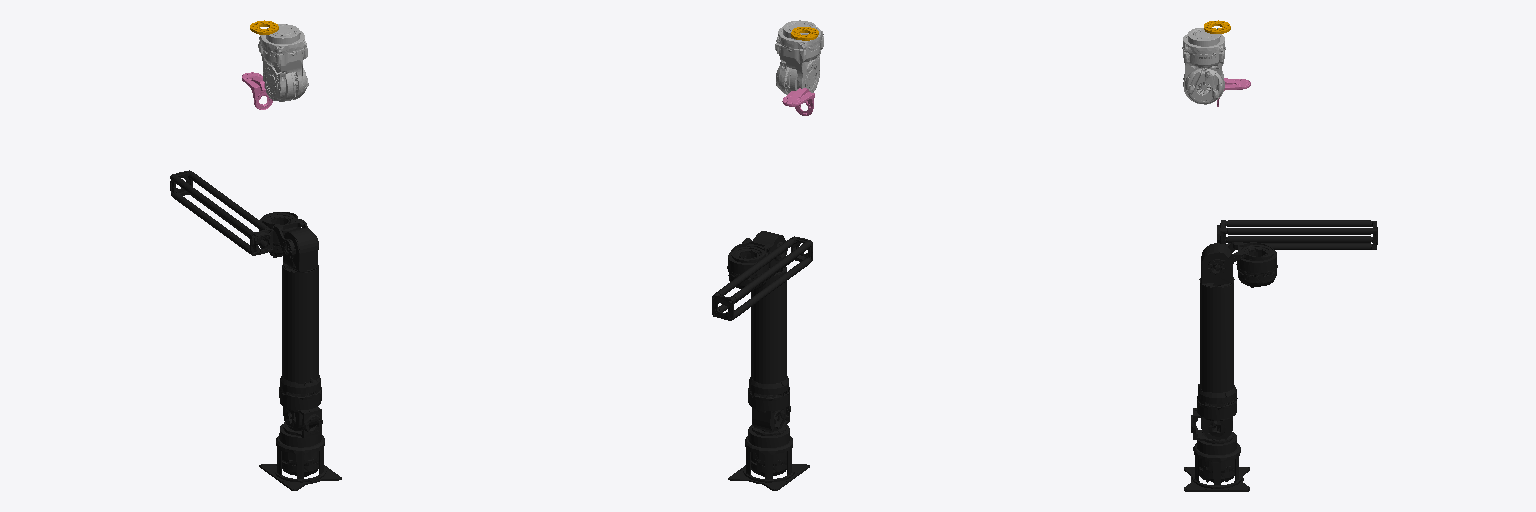
robot.urdf — dynaarm:
<?xml version="1.0" encoding="utf-8"?>
<!-- This file contains the description of dynaarm. -->
<robot name="dynaarm">
  <!-- [kg * m^2] -->
  <!-- [m] -->
  <!-- measured -->
  <!-- Base link -->
  <link name="base">
    <visual>
      <geometry>
        <mesh filename="../meshes/300_base_anymal_mesh.dae"/>
      </geometry>
      <material name="carbon_fiber">
        <color rgba=" 0.15 0.15 0.15 1"/>
      </material>
    </visual>
    <collision>
      <origin rpy="0 0 0" xyz="0 0 -0.04"/>
      <geometry>
        <!--<mesh filename="../meshes/300_base_anymal_mesh_col.dae"/>-->
        <cylinder length="0.08" radius="0.06"/>
      </geometry>
    </collision>
  </link>
  <!-- Fixed joint to add dummy inertia link -->
  <joint name="dynaarm_base_to_dynaarm_base_inertia" type="fixed">
    <parent link="base"/>
    <child link="dynaarm_base_inertia"/>
    <origin rpy="0 0 0" xyz="0 0 0"/>
  </joint>
  <!-- Dummy inertia link, because KDL cannot have inertia on the base link -->
  <link name="dynaarm_base_inertia">
    <inertial>
      <mass value="1.53"/>
      <origin rpy="0 0 0" xyz="2.6302343e-05 -0.000226836219 -0.03053573033"/>
      <inertia ixx="0.0018534" ixy="-4.535e-06" ixz="9.01e-07" iyy="0.0018514" iyz="5.559454625e-06" izz="0.00223447"/>
    </inertial>
  </link>
  <link name="dynaarm_SHOULDER">
    <visual>
      <geometry>
        <mesh filename="../meshes/301_shoulder_mesh.dae"/>
      </geometry>
      <material name="carbon_fiber">
        <color rgba=" 0.15 0.15 0.15 1"/>
      </material>
    </visual>
    <!--<collision>
      <geometry>
        <mesh filename="../meshes/301_shoulder_mesh_col.dae"/>
      </geometry>
    </collision>-->
    <inertial>
      <mass value="2.63"/>
      <origin rpy="0 0 0" xyz="0.0 0.0 -0.0017336"/>
      <inertia ixx="0.01030121" ixy="-5.085e-05" ixz="0.0" iyy="0.0030165" iyz="0.0" izz="0.01009904"/>
    </inertial>
  </link>
  <link name="dynaarm_UPPERARM">
    <visual>
      <geometry>
        <mesh filename="../meshes/302_upperarm_mesh.dae"/>
      </geometry>
      <material name="carbon_fiber">
        <color rgba=" 0.15 0.15 0.15 1"/>
      </material>
    </visual>
    <collision>
      <origin rpy="0 1.57 0" xyz="0.206 0.0 0.0"/>
      <geometry>
        <cylinder length="0.206" radius="0.042"/>
      </geometry>
    </collision>
    <inertial>
      <mass value="1.394"/>
      <origin rpy="0 0 0" xyz="0.21109 2.2e-05 -0.000317"/>
      <inertia ixx="0.00116179" ixy="-7.2e-07" ixz="-0.00014045" iyy="0.046092126" iyz="7e-09" izz="0.04627953"/>
    </inertial>
  </link>
  <link name="dynaarm_ELBOW">
    <visual>
      <geometry>
        <mesh filename="../meshes/303_elbow_mesh.dae"/>
      </geometry>
      <material name="carbon_fiber">
        <color rgba=" 0.15 0.15 0.15 1"/>
      </material>
    </visual>
    <collision>
      <origin rpy="0 0 0" xyz="0.0 0.0 0.0"/>
      <geometry>
        <sphere radius="0.05"/>
      </geometry>
    </collision>
    <inertial>
      <mass value="1.3"/>
      <origin rpy="0 0 0" xyz="-0.000819 -0.087193 -0.000703"/>
      <inertia ixx="0.00188444" ixy="4.5787e-05" ixz="1.366e-05" iyy="0.00112312" iyz="-4.311e-05" izz="0.00152649"/>
    </inertial>
  </link>
  <joint name="SH_ROT" type="revolute">
    <parent link="base"/>
    <child link="dynaarm_SHOULDER"/>
    <axis xyz="0 0 1"/>
    <limit effort="40" lower="-3.14159265359" upper="3.14159265359" velocity="17"/>
    <!-- limit effort also defines torque limit and freeze controller gains -->
    <origin rpy="0 0 0" xyz="0 0 0.06"/>
    <dynamics damping="0.3" friction="0.0"/>
  </joint>
  <joint name="SH_FLE" type="revolute">
    <parent link="dynaarm_SHOULDER"/>
    <child link="dynaarm_UPPERARM"/>
    <axis xyz="0 0 -1"/>
    <limit effort="40" lower="-1.9707963267948965" upper="1.9707963267948965" velocity="17"/>
    <!-- limit effort also defines torque limit and freeze controller gains -->
    <origin rpy="1.5707963267948966 -1.5707963267948966 0" xyz="0 0 0.0"/>
    <dynamics damping="0.3" friction="0.0"/>
  </joint>
  <joint name="EL_FLE" type="revolute">
    <parent link="dynaarm_UPPERARM"/>
    <child link="dynaarm_ELBOW"/>
    <axis xyz="0 0 1"/>
    <limit effort="40" lower="-3.141592653589793" upper="3.141592653589793" velocity="17"/>
    <!-- limit effort also defines torque limit and freeze controller gains -->
    <origin rpy="3.141592653589793 0 0" xyz="0.412 0 0"/>
    <dynamics damping="0.3" friction="0.0"/>
  </joint>
  <link name="dynaarm_FOREARM">
    <visual>
      <geometry>
        <mesh filename="../meshes/400_forearm_4tube_longer_mesh.dae"/>
      </geometry>
      <material name="carbon_fiber">
        <color rgba=" 0.15 0.15 0.15 1"/>
      </material>
    </visual>
    <collision>
      <origin rpy="0 0 0" xyz="0.0 0.0 0.135"/>
      <geometry>
        <cylinder length="0.4" radius="0.025"/>
      </geometry>
    </collision>
    <inertial>
      <mass value="0.154"/>
      <origin rpy="0 0 0" xyz="0.0 0.0 0.133"/>
      <inertia ixx="0.00185" ixy="0.0" ixz="0.0" iyy="0.001849" iyz="0.0" izz="0.000115"/>
    </inertial>
  </link>
  <joint name="FA_ROT" type="revolute">
    <parent link="dynaarm_ELBOW"/>
    <child link="dynaarm_FOREARM"/>
    <axis xyz="0 0 1"/>
    <limit effort="40" lower="-3.14159265359" upper="3.14159265359" velocity="17"/>
    <!-- limit effort also defines torque limit and freeze controller gains -->
    <origin rpy="1.57079632679 0 1.57079632679" xyz="0.025 -0.092 0"/>
    <dynamics damping="0.3" friction="0.0"/>
  </joint>
  <link name="dynaarm_FOREARM_wrist1">
    <visual>
      <geometry>
        <mesh filename="../meshes/406_forearm_4tube_wrist1_mesh.dae" scale="1.0 1.0 1.0"/>
      </geometry>
    </visual>
    <inertial>
      <mass value="0.05"/>
      <origin rpy="0 0 0" xyz="0.0 -0.0284 0.0223"/>
      <inertia ixx="3.2e-05" ixy="0.0" ixz="0.0" iyy="3.2999999999999996e-05" iyz="-5.4e-06" izz="1.7e-05"/>
    </inertial>
  </link>
  <joint name="FA_ROT_wrist1" type="fixed">
    <parent link="dynaarm_FOREARM"/>
    <child link="dynaarm_FOREARM_wrist1"/>
    <origin rpy="0 0 0" xyz="0.0 0.0 0.35"/>
    <limit effort="2000" lower="0" upper="0" velocity="0"/>
    <!-- limit effort also defines torque limit and freeze controller gains -->
    <dynamics damping="0.0" friction="0.0"/>
  </joint>
  <link name="dynaarm_WRIST_1">
    <visual>
      <geometry>
        <mesh filename="../meshes/500_wrist1_mesh.dae" scale="1.0 1.0 1.0"/>
      </geometry>
    </visual>
    <collision>
      <origin rpy="0 1.5707963267948966 0" xyz="0.095 0 0.03"/>
      <geometry>
        <cylinder length="0.09" radius="0.055"/>
      </geometry>
    </collision>
    <inertial>
      <mass value="1.79"/>
      <origin rpy="0 0 0" xyz="0.047 0.0 0.029"/>
      <inertia ixx="0.0016719999999999999" ixy="0.0" ixz="0.00012969999999999998" iyy="0.004985" iyz="-3.7e-06" izz="0.005209999999999999"/>
    </inertial>
  </link>
  <link name="dynaarm_WRIST_2">
    <visual>
      <geometry>
        <mesh filename="../meshes/600_wrist2_plate_mesh.dae" scale="1.0 1.0 1.0"/>
      </geometry>
    </visual>
    <inertial>
      <mass value="0.03"/>
      <origin rpy="0 0 0" xyz="0.0 0.0 0.0064"/>
      <inertia ixx="7.4e-06" ixy="0.0" ixz="0.0" iyy="7.4e-06" iyz="0.0" izz="1.4199999999999998e-05"/>
    </inertial>
  </link>
  <joint name="WRIST_1" type="revolute">
    <parent link="dynaarm_FOREARM_wrist1"/>
    <child link="dynaarm_WRIST_1"/>
    <axis xyz="0 0 1"/>
    <limit effort="40" lower="-1.5707963267948966" upper="1.5707963267948966" velocity="17"/>
    <!-- limit effort also defines torque limit and freeze controller gains -->
    <origin rpy="0 -1.5707963267948966 -1.5707963267948966" xyz="0.0 -0.03 0.055"/>
    <dynamics damping="0.3" friction="0.0"/>
  </joint>
  <joint name="WRIST_2" type="revolute">
    <parent link="dynaarm_WRIST_1"/>
    <child link="dynaarm_WRIST_2"/>
    <axis xyz="0 0 1"/>
    <limit effort="40" lower="-3.141592653589793" upper="3.141592653589793" velocity="17"/>
    <!-- limit effort also defines torque limit and freeze controller gains -->
    <origin rpy="0 1.5707963267948966 0" xyz="0.12 0.0 0.03"/>
    <dynamics damping="0.3" friction="0.0"/>
  </joint>
  <link name="dynaarm_END_EFFECTOR">
    <!-- used in the elbow joint to attach to the mimic joint and and to the elbow joint -->
    <visual>
      <origin rpy="0 0 0" xyz="-0.0005 0 0"/>
      <geometry>
        <box size="0.001 0.001 0.001"/>
      </geometry>
    </visual>
  </link>
  <joint name="ee_fix_joint" type="fixed" dont_collapse="true">
    <parent link="dynaarm_WRIST_2"/>
    <child link="dynaarm_END_EFFECTOR"/>
    <origin rpy="0 0 0" xyz="0 0 0"/>
    <limit effort="2000" lower="0" upper="0" velocity="0"/>
    <!-- limit effort also defines torque limit and freeze controller gains -->
    <dynamics damping="0.0" friction="0.0"/>
  </joint>
</robot>

--- Render facts (derived) ---
3 views of the same robot in one strip: view 1: azimuth 30°, elevation 25°; view 2: azimuth 150°, elevation 25°; view 3: azimuth 270°, elevation 25° (orthographic).
Model dynaarm with 10 links and 9 joints (6 revolute, 3 fixed), rooted at base, posed all joints at 0.
Visible links, largest first — view 1: dynaarm_UPPERARM, dynaarm_WRIST_1, dynaarm_FOREARM, dynaarm_SHOULDER, base, dynaarm_ELBOW, dynaarm_FOREARM_wrist1; view 2: dynaarm_UPPERARM, dynaarm_FOREARM, dynaarm_WRIST_1, base, dynaarm_SHOULDER, dynaarm_ELBOW, dynaarm_FOREARM_wrist1; view 3: dynaarm_UPPERARM, dynaarm_FOREARM, dynaarm_WRIST_1, base, dynaarm_ELBOW, dynaarm_SHOULDER.
Link boxes in pixels (left/top/right/bottom): dynaarm_UPPERARM: left=282, top=227, right=318, bottom=430; dynaarm_WRIST_1: left=258, top=24, right=308, bottom=101; dynaarm_FOREARM: left=170, top=170, right=273, bottom=255; dynaarm_SHOULDER: left=279, top=375, right=322, bottom=464; base: left=259, top=435, right=341, bottom=490; dynaarm_ELBOW: left=259, top=212, right=318, bottom=258; dynaarm_FOREARM_wrist1: left=242, top=72, right=272, bottom=109; dynaarm_UPPERARM: left=751, top=231, right=786, bottom=431; dynaarm_FOREARM: left=712, top=236, right=812, bottom=320; dynaarm_WRIST_1: left=775, top=20, right=823, bottom=94; base: left=728, top=436, right=809, bottom=490; dynaarm_SHOULDER: left=748, top=376, right=790, bottom=447; dynaarm_ELBOW: left=727, top=237, right=787, bottom=288; dynaarm_FOREARM_wrist1: left=782, top=88, right=814, bottom=115; dynaarm_UPPERARM: left=1199, top=243, right=1234, bottom=439; dynaarm_FOREARM: left=1217, top=220, right=1377, bottom=249; dynaarm_WRIST_1: left=1182, top=28, right=1225, bottom=104; base: left=1184, top=443, right=1249, bottom=491; dynaarm_ELBOW: left=1208, top=242, right=1277, bottom=287; dynaarm_SHOULDER: left=1191, top=384, right=1237, bottom=454.
Bounding box of the posed robot: 0.1863 × 0.4507 × 1.11 m (x, y, z).
8 mesh visuals loaded from 8 distinct referenced files (8 Collada DAE).
